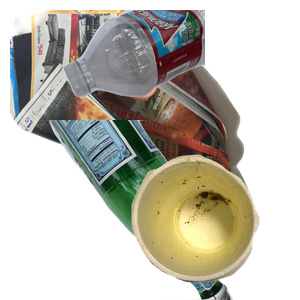glass: (37, 120, 262, 300)
paper: (10, 10, 250, 190)
plastic: (60, 10, 300, 100)
trash: (129, 152, 300, 300)
